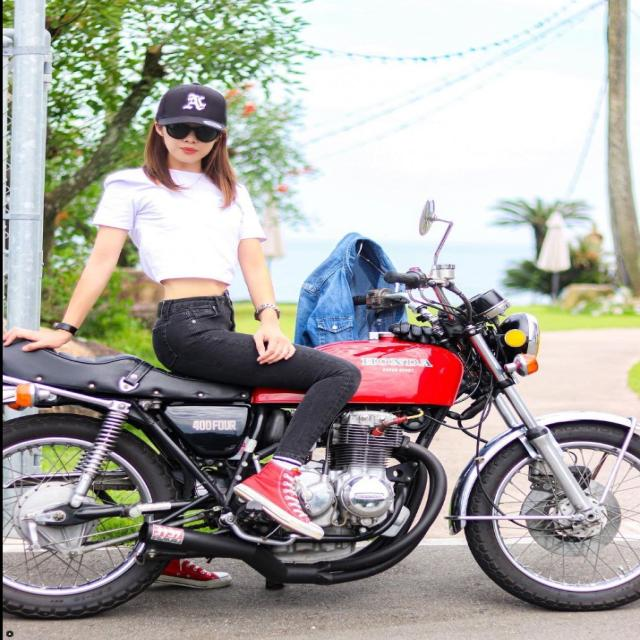illegal_helmet: (150, 81, 233, 168)
